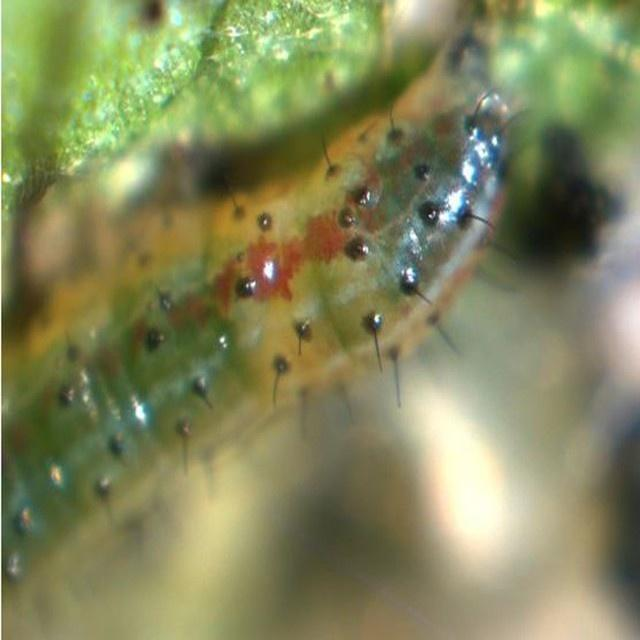Plaga: (1, 75, 506, 588)
